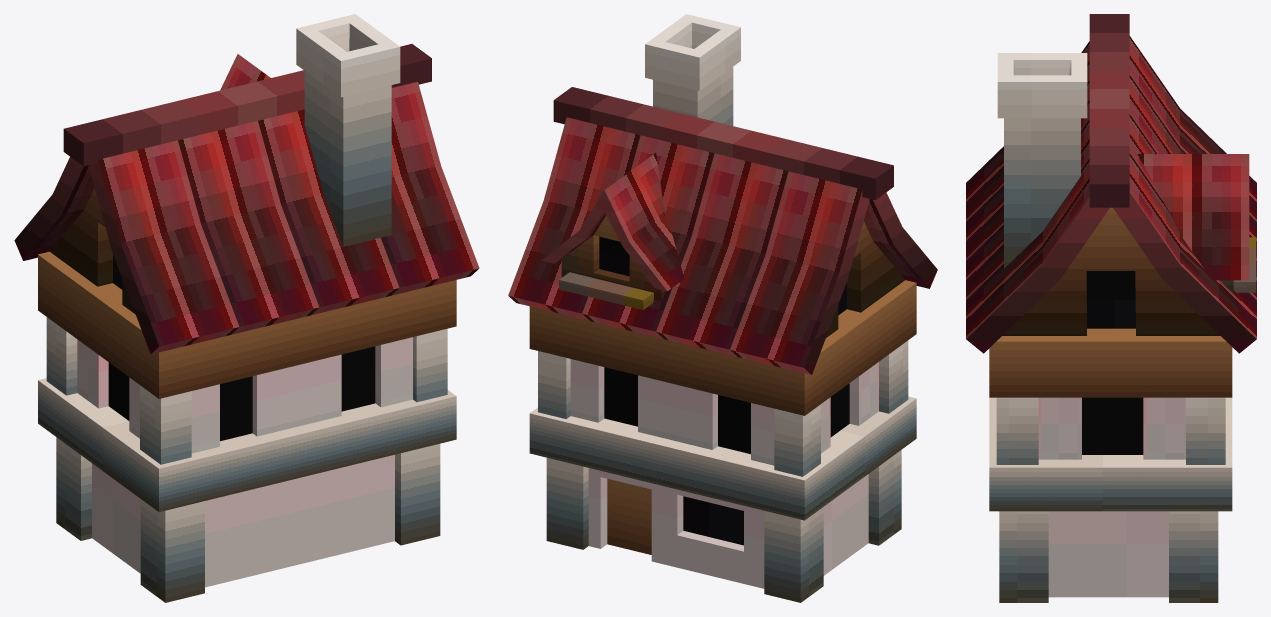
Rendered from simple_low_poly_house_lvl6.glb.
3 renders of one model, left to right at view 1: azimuth 30°, elevation 25°; view 2: azimuth 150°, elevation 25°; view 3: azimuth 270°, elevation 25°, orthographic. The views are drawn at different scales.
Parts seen in each view (by area): view 1: house_lvl6_houses_0; view 2: house_lvl6_houses_0; view 3: house_lvl6_houses_0.
Boxes of the visible parts, x1,y1,x2,y2 form: house_lvl6_houses_0: (14, 14, 479, 602); house_lvl6_houses_0: (508, 14, 937, 602); house_lvl6_houses_0: (966, 14, 1256, 602).
Size of the model in its own units: 5.02 by 6.88 by 3.62.
1 material, 1 textured.
